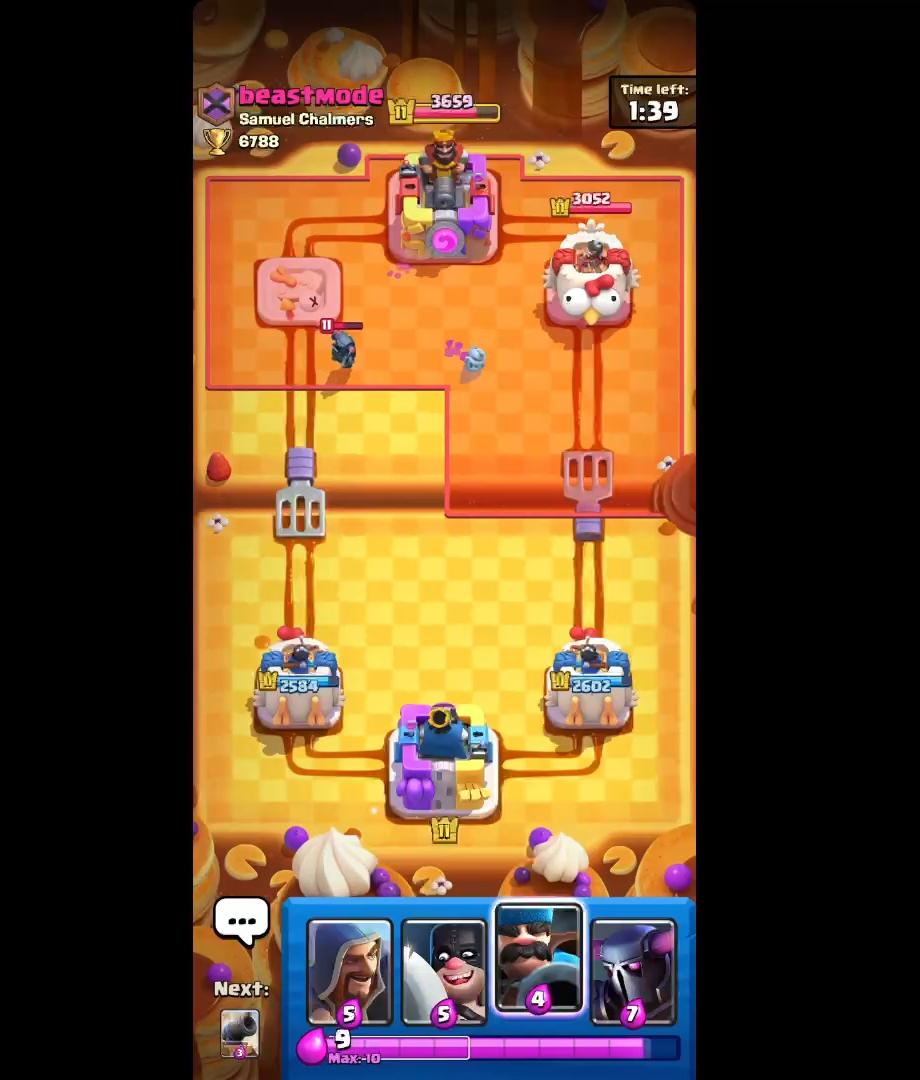Mini Pekka: (322, 316, 368, 375)
